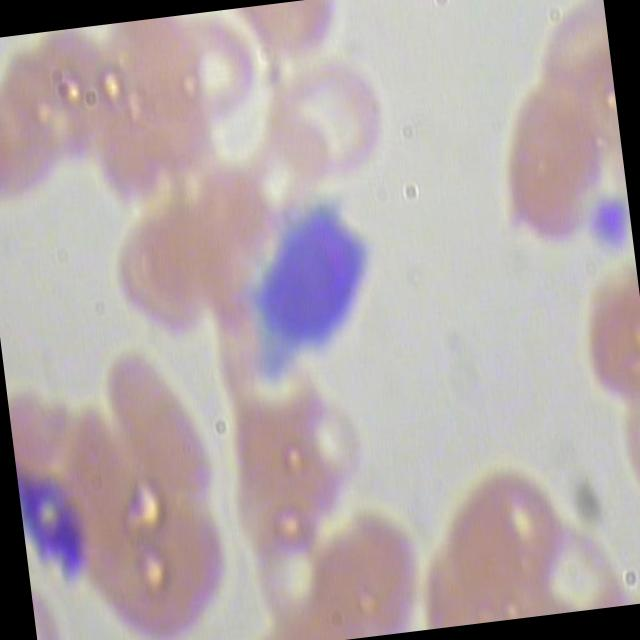Platelets: (582, 194, 634, 262)
WBC: (234, 183, 411, 388)
